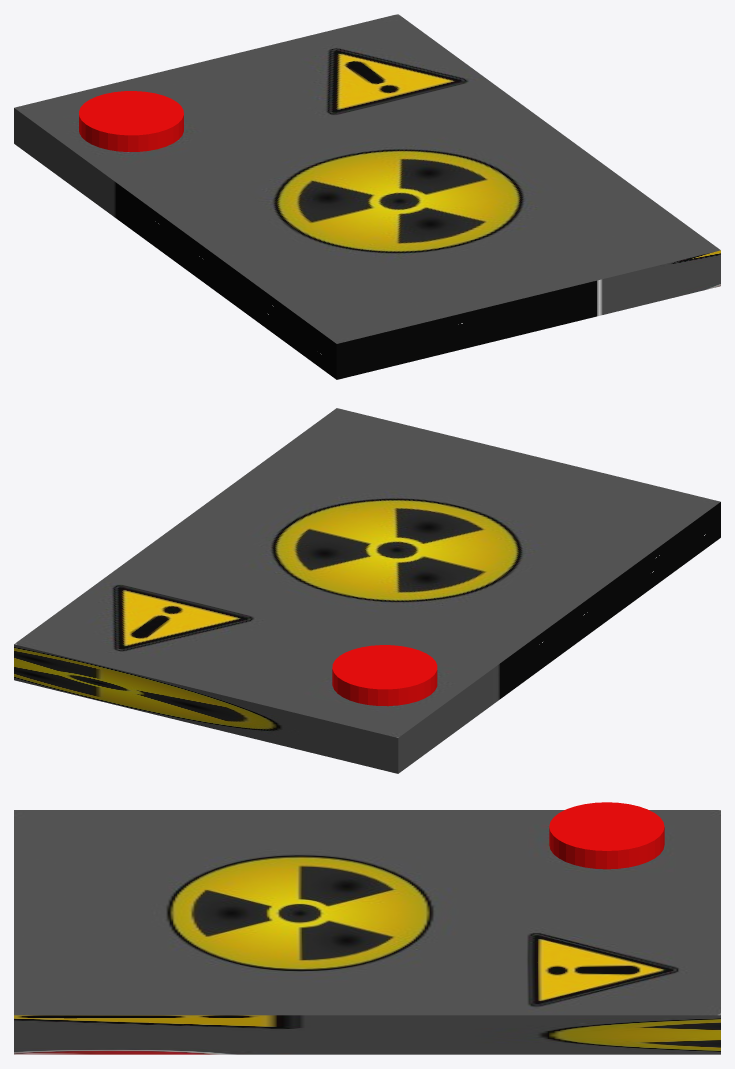
Rendered from xray.glb.
3 views of the same model, one above another, from view 1: azimuth 30°, elevation 25°; view 2: azimuth 150°, elevation 25°; view 3: azimuth 270°, elevation 25° (orthographic). The views are drawn at different scales.
Parts seen in each view (by area): view 1: Cube, Cylinder; view 2: Cube, Cylinder; view 3: Cube, Cylinder.
Boxes of the visible parts, <box> form: Cube: <box>14,14,720,379</box>; Cylinder: <box>79,91,183,151</box>; Cube: <box>14,408,720,773</box>; Cylinder: <box>332,645,437,706</box>; Cube: <box>14,810,720,1054</box>; Cylinder: <box>549,802,664,869</box>.
Bounding box in the file's own units: 2.24 × 0.2934 × 3.26.
2 materials, 1 textured.
